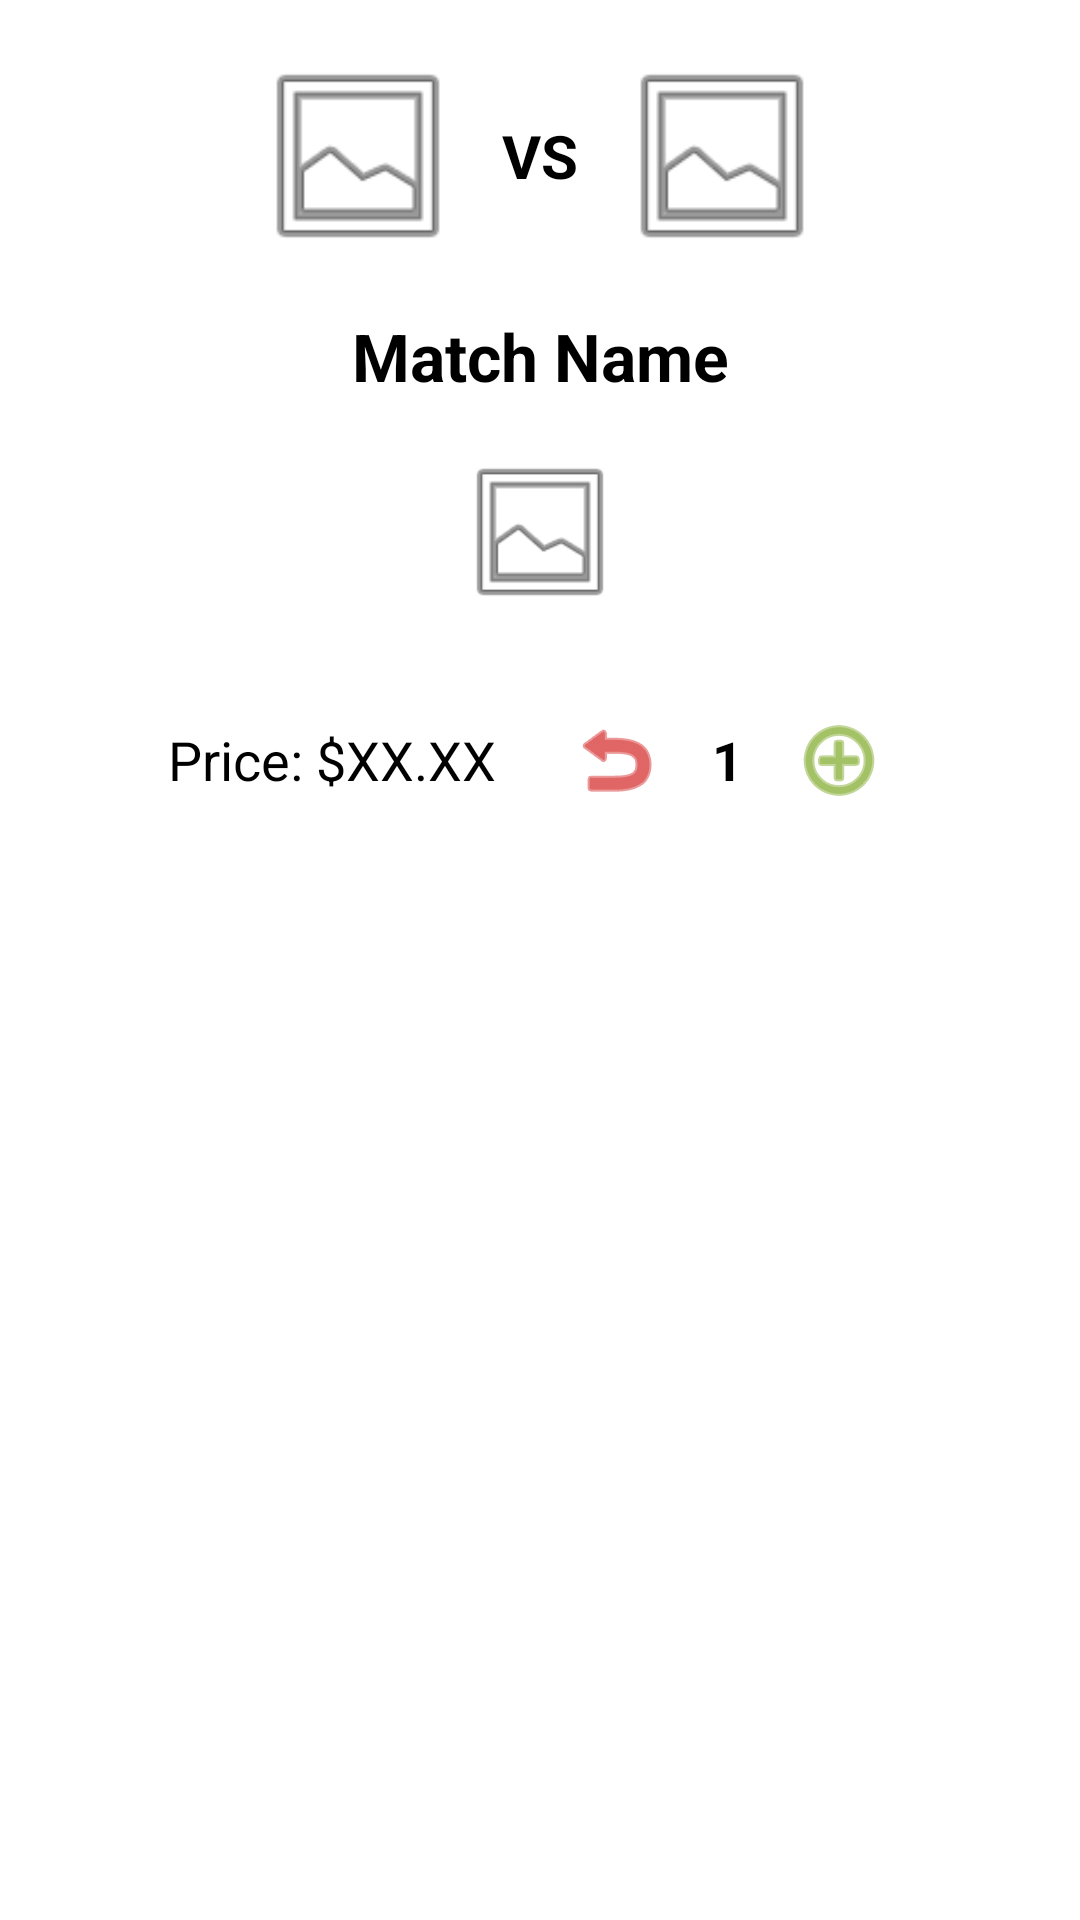

Named icons in this screenshot (1080*1920) and their bounding boxes, [x1,y1,x2,y2]:
add: [803,725,875,796]
gallery: [276,74,440,238], [640,74,804,238], [477,468,603,596]
revert: [583,729,652,792]
